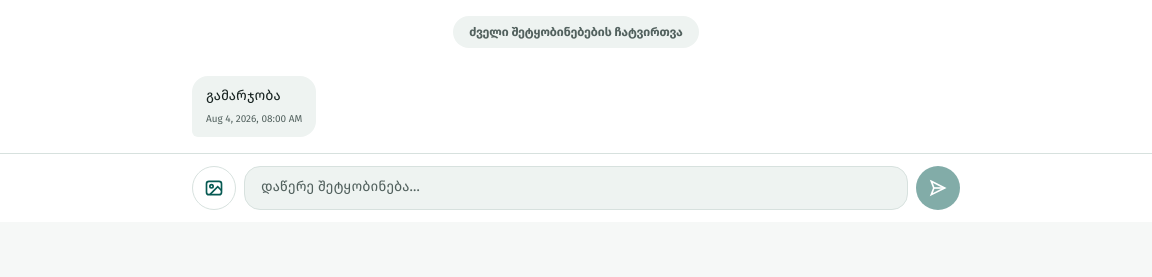
Test: chat components › loads older messages through the bounded participant action
What coordinates should you click on to do the following:
click the button "ძველი შეტყობინებების ჩატვირთვა"
I would click on:
 (576, 32)
Its box is [453,16,699,48].
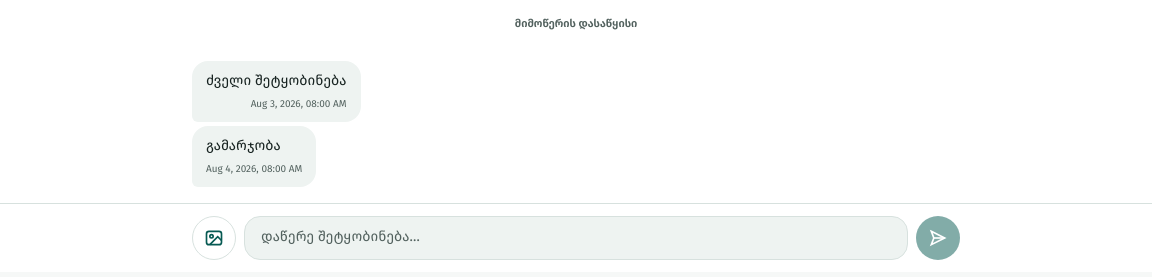
Result: the text "ძველი შეტყობინება" is shown at [206,70,346,90]
